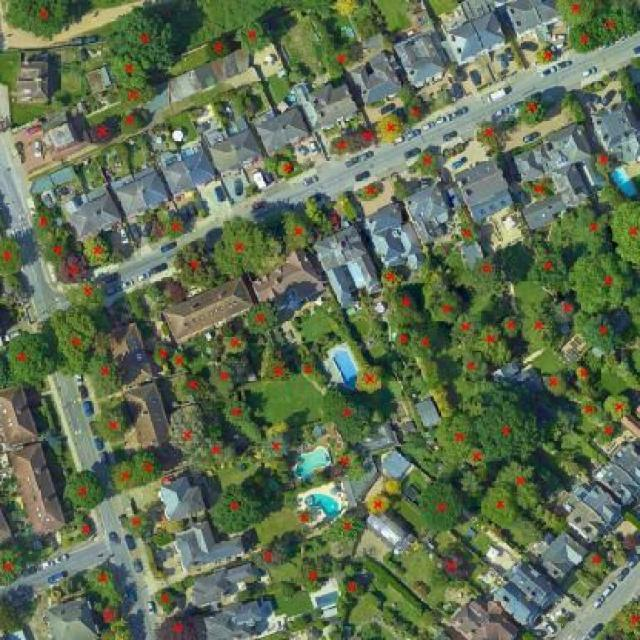tree: (102, 2, 189, 78), (476, 386, 556, 460), (569, 242, 635, 318), (215, 210, 280, 284), (313, 382, 379, 450), (3, 325, 62, 398), (200, 479, 272, 536), (566, 301, 640, 355), (0, 0, 91, 43), (411, 476, 471, 539), (49, 308, 100, 379), (493, 457, 556, 514), (163, 240, 226, 294), (218, 388, 272, 450), (95, 53, 174, 95), (158, 406, 216, 463), (422, 265, 469, 332), (61, 267, 113, 324), (78, 347, 135, 399), (474, 480, 528, 534), (459, 252, 519, 299), (54, 465, 109, 516), (526, 238, 572, 298), (472, 321, 526, 372), (584, 0, 640, 49), (240, 532, 305, 574), (569, 198, 616, 256), (279, 201, 324, 261), (383, 280, 431, 331), (87, 399, 136, 448), (513, 296, 556, 350), (315, 508, 371, 548), (422, 410, 478, 450), (240, 293, 286, 341), (321, 444, 373, 484), (612, 197, 639, 274), (315, 38, 369, 75), (233, 14, 279, 57), (253, 426, 301, 466), (36, 228, 82, 269), (50, 251, 99, 289), (149, 609, 209, 640), (71, 230, 117, 270), (607, 587, 640, 640), (146, 577, 192, 615), (0, 230, 34, 281), (510, 91, 553, 131), (431, 546, 475, 585), (298, 347, 333, 396), (350, 356, 388, 401), (134, 442, 166, 495), (79, 561, 126, 597), (24, 202, 68, 240), (0, 587, 31, 640), (0, 541, 32, 592), (467, 116, 511, 153), (105, 454, 141, 498), (116, 502, 156, 541), (615, 275, 640, 337), (405, 146, 450, 180), (108, 82, 166, 108), (449, 441, 497, 472), (157, 206, 195, 245), (552, 0, 599, 31), (541, 204, 574, 248), (158, 206, 192, 248), (572, 388, 609, 424), (82, 115, 116, 154), (548, 294, 587, 328), (349, 175, 391, 206), (535, 365, 571, 400), (271, 150, 305, 187), (494, 309, 528, 346), (325, 127, 360, 162), (373, 112, 409, 146), (602, 389, 636, 425), (446, 306, 479, 343), (567, 25, 605, 57), (254, 355, 298, 382), (590, 416, 628, 447), (114, 106, 148, 140), (201, 31, 236, 64), (68, 512, 100, 548), (218, 329, 255, 360), (394, 99, 438, 124), (204, 362, 247, 387), (454, 345, 481, 384), (569, 363, 605, 392), (361, 494, 401, 520), (296, 559, 327, 592), (351, 122, 385, 151), (528, 40, 562, 69), (581, 542, 610, 576), (453, 215, 484, 246), (147, 332, 171, 372), (376, 264, 412, 290), (95, 602, 126, 629), (175, 372, 207, 398), (288, 505, 321, 530), (165, 346, 193, 375), (532, 43, 561, 69), (524, 179, 555, 203), (589, 144, 616, 171), (339, 579, 370, 602), (379, 474, 407, 498), (275, 155, 300, 181)
